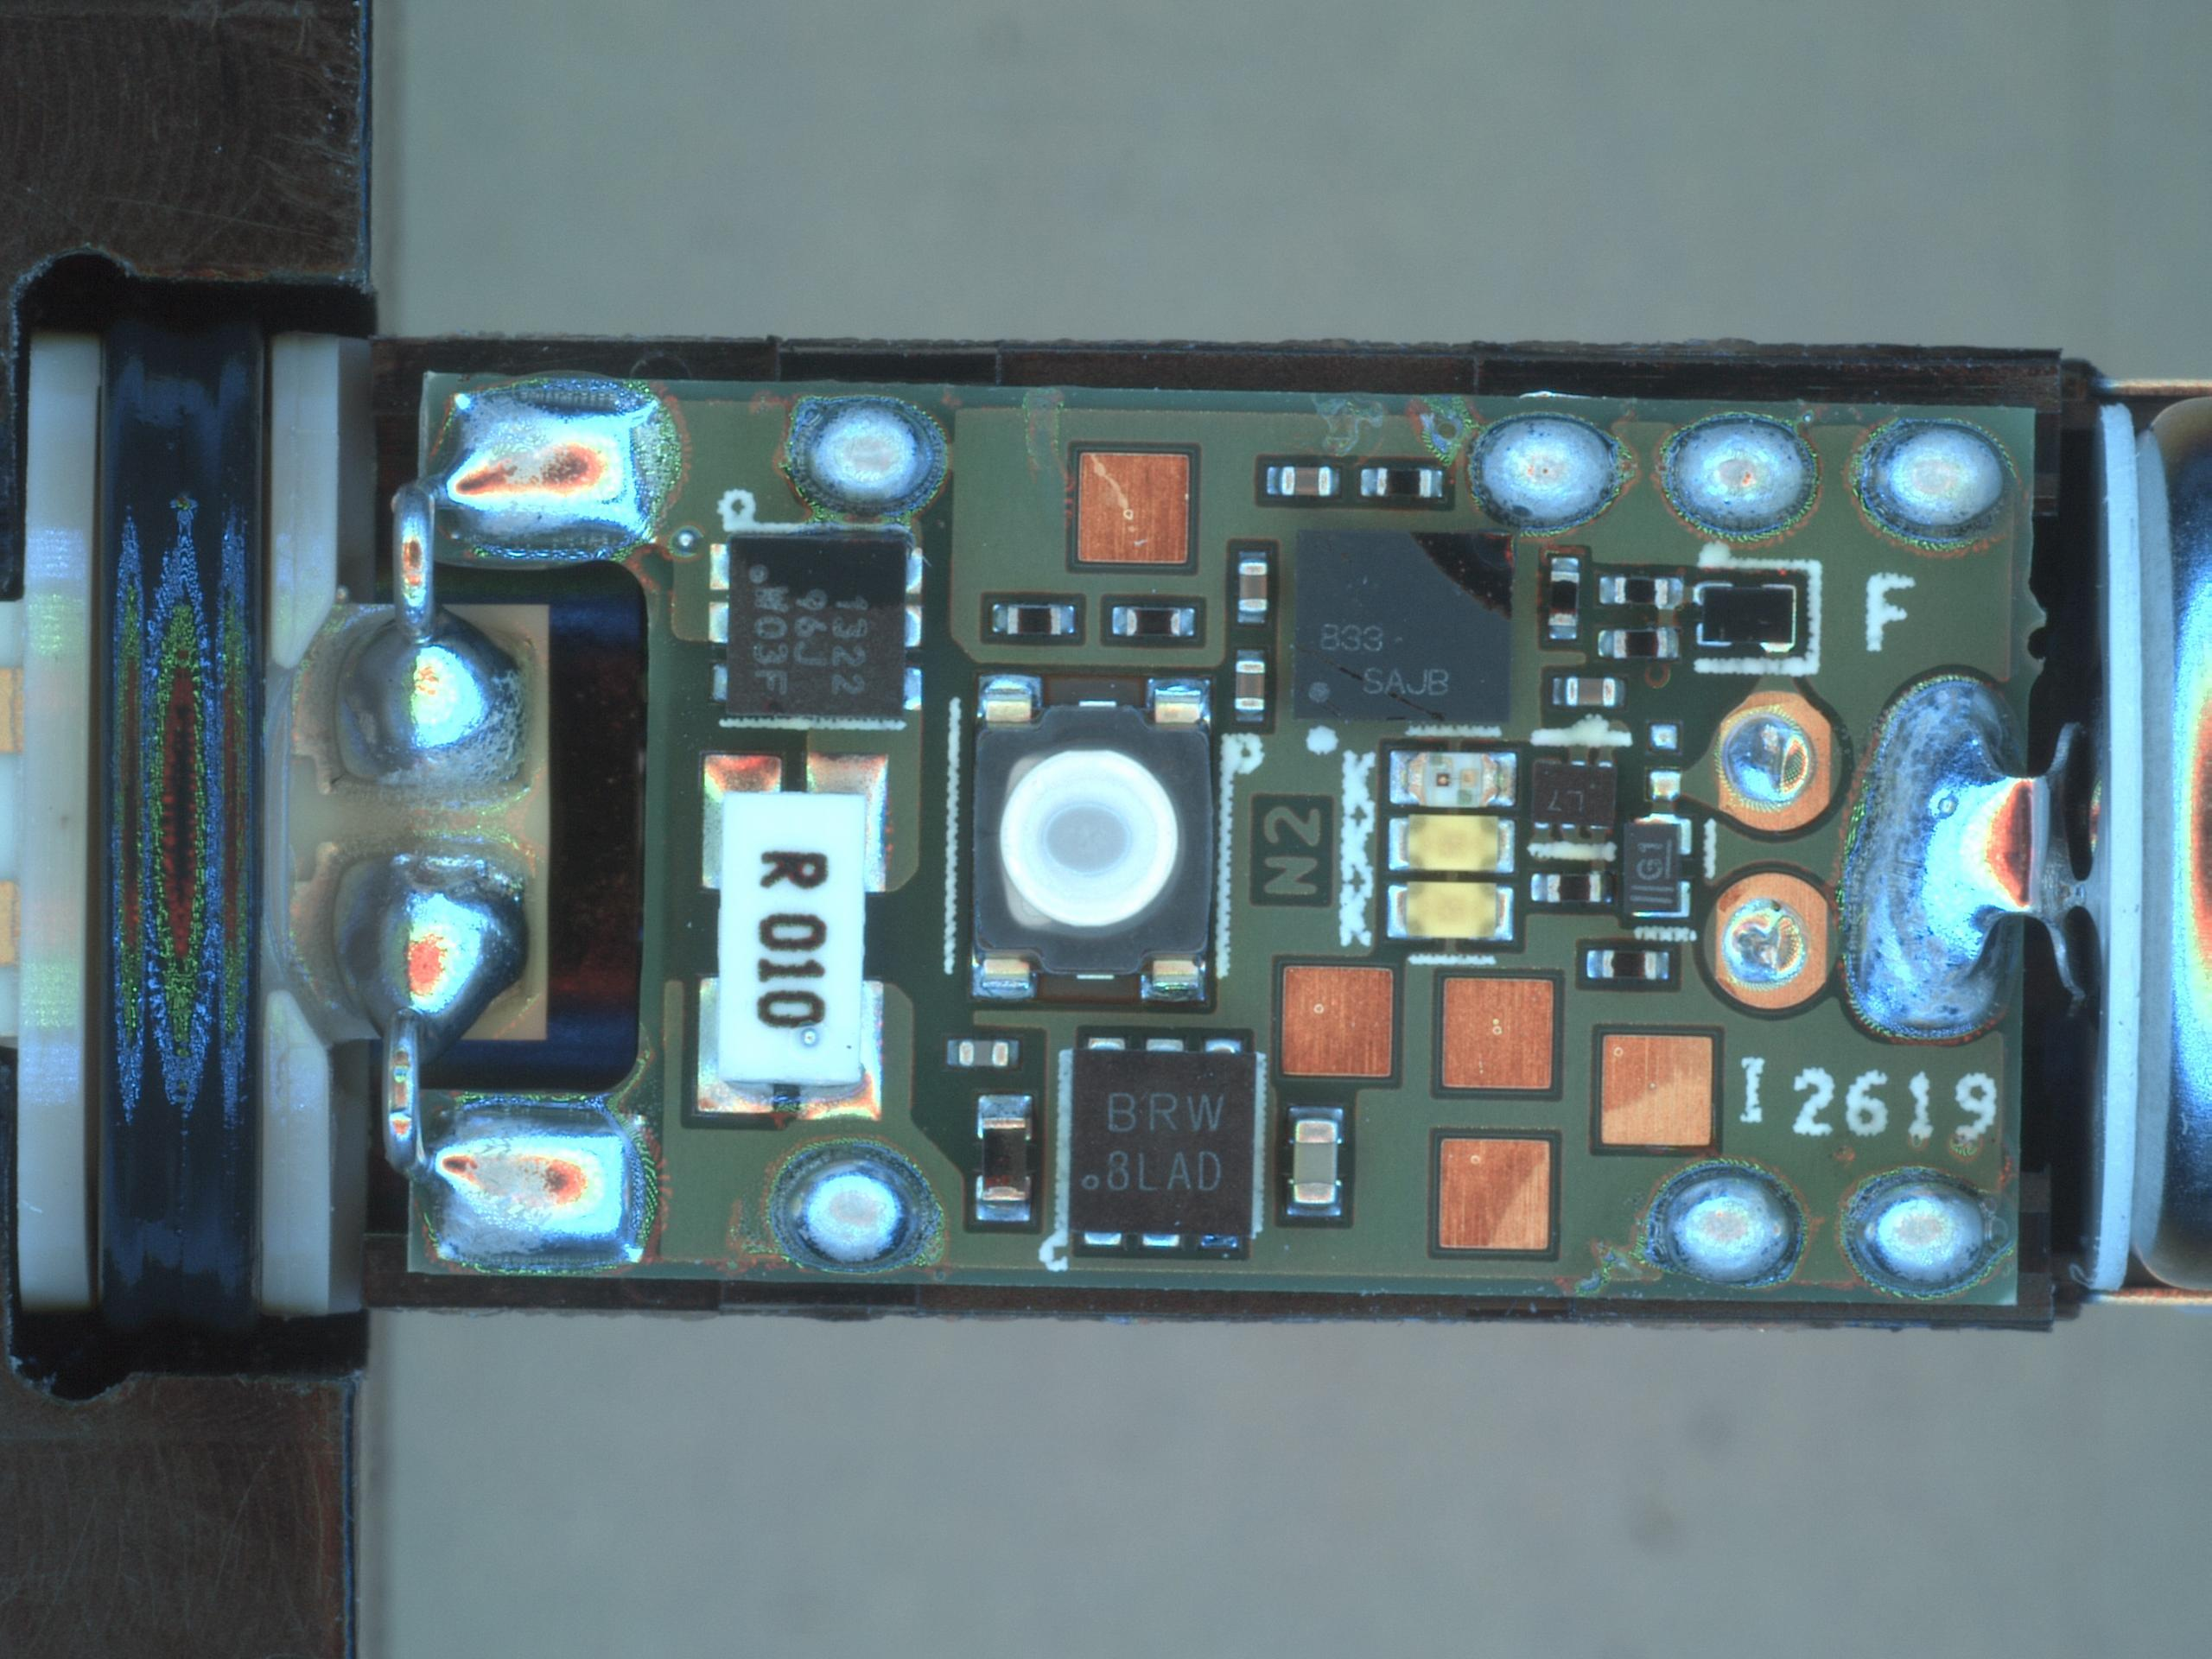solderball: (672, 528, 695, 547), (803, 1028, 819, 1047)
